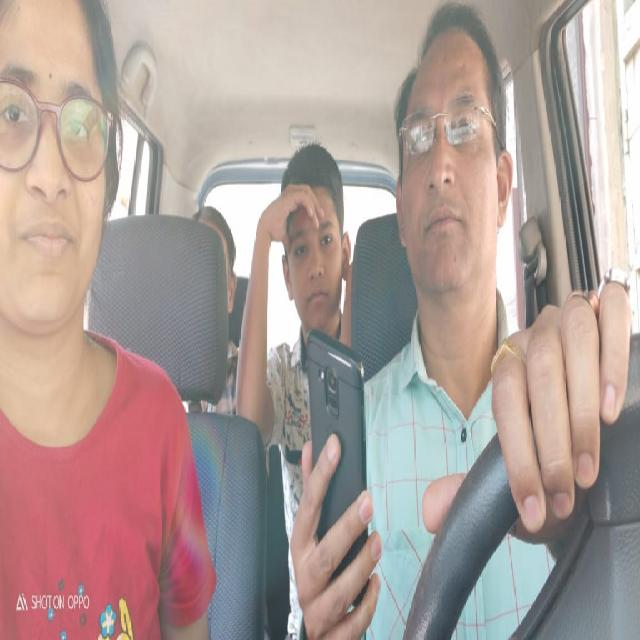mobile: (302, 330, 375, 591)
person: (0, 12, 114, 333), (396, 43, 512, 284), (279, 150, 347, 328), (192, 205, 242, 335)
